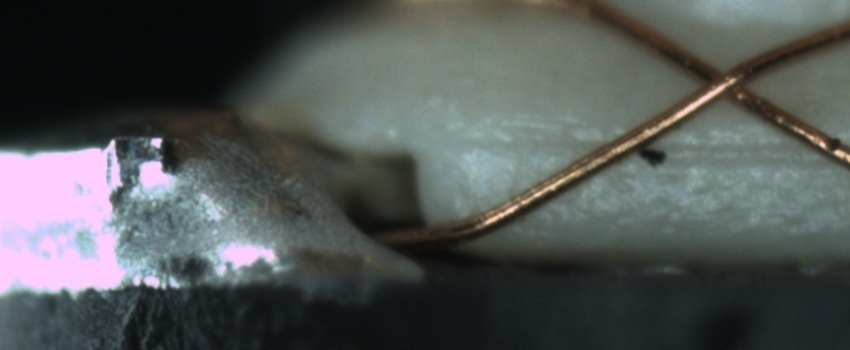CL: (676, 46, 777, 117)
DL: (459, 122, 849, 180)
